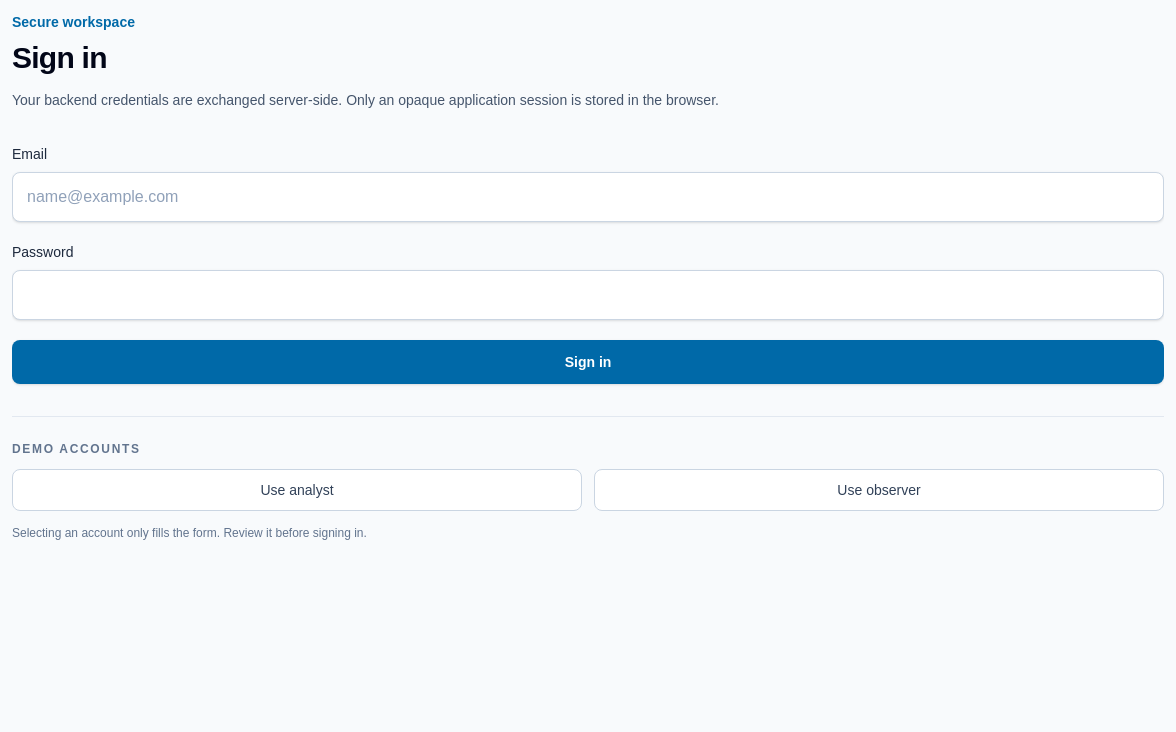
SignInForm › shows an understandable invalid-credentials error
The width and height of the screenshot is (1176, 732).
Type "wrong@example.test" into the field labelled "Email" at (588, 197), box left=12, top=172, right=1164, bottom=222
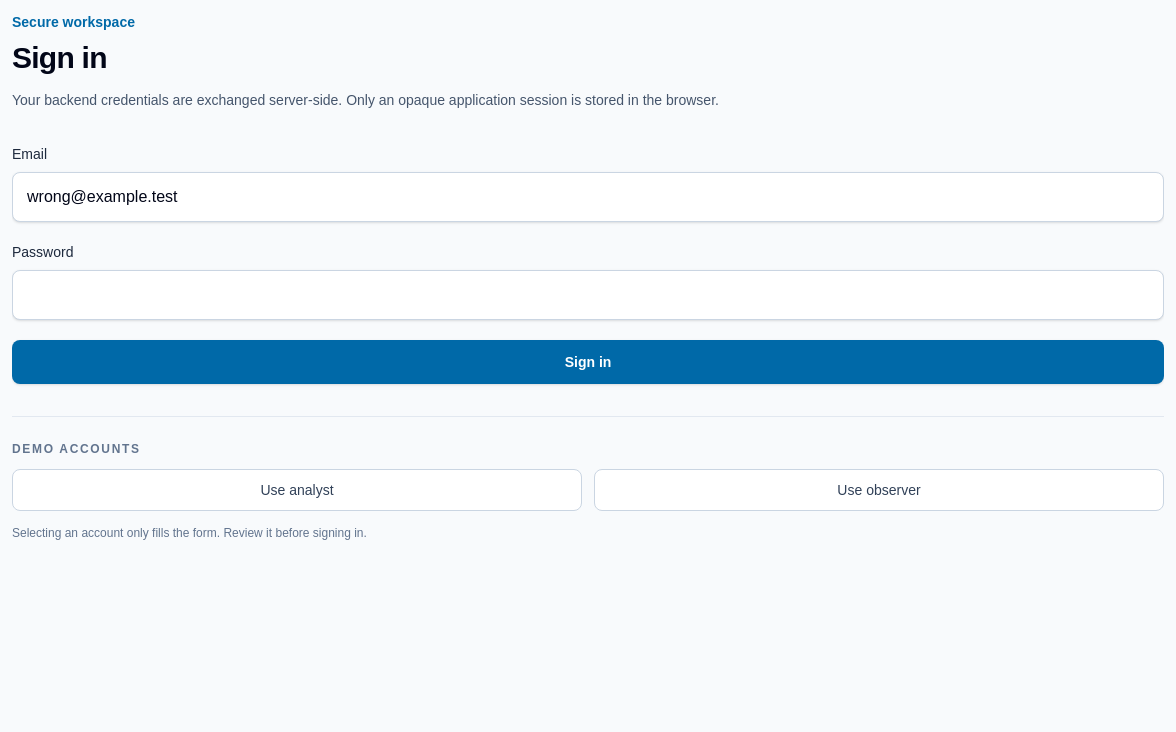
Type "wrong-password" into the password field labelled "Password" at (588, 295), box left=12, top=270, right=1164, bottom=320
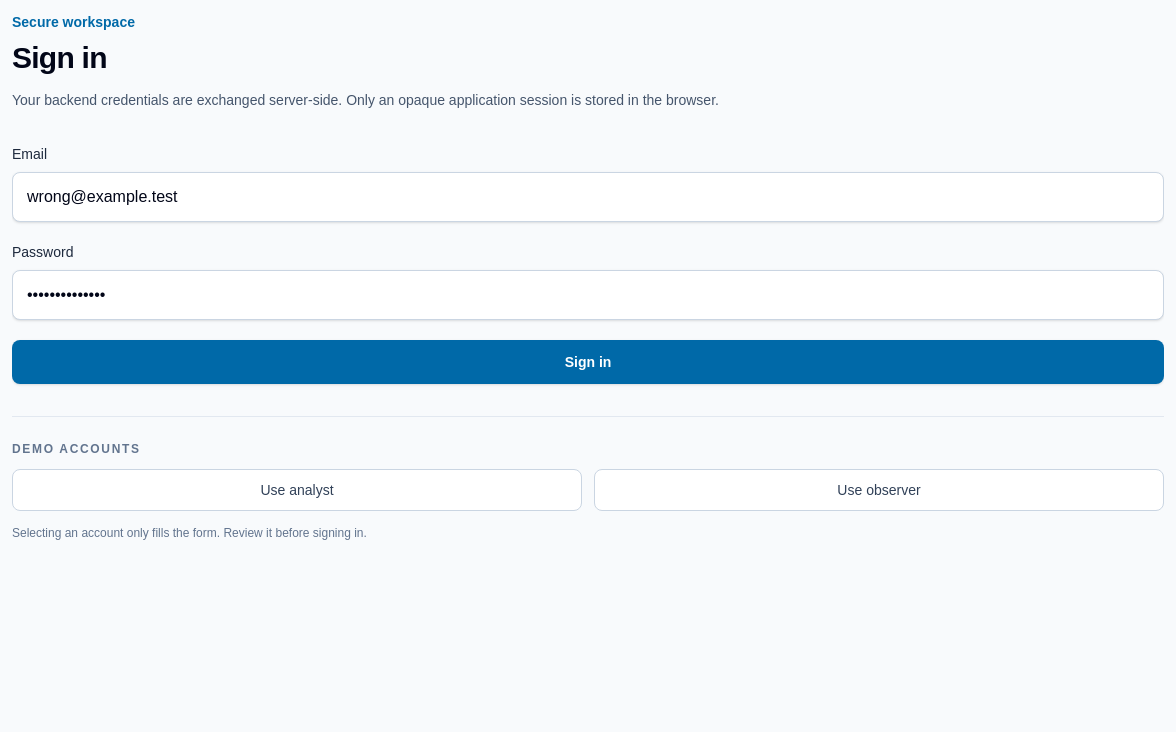
Click the button "Sign in" at (588, 362), box left=12, top=340, right=1164, bottom=384
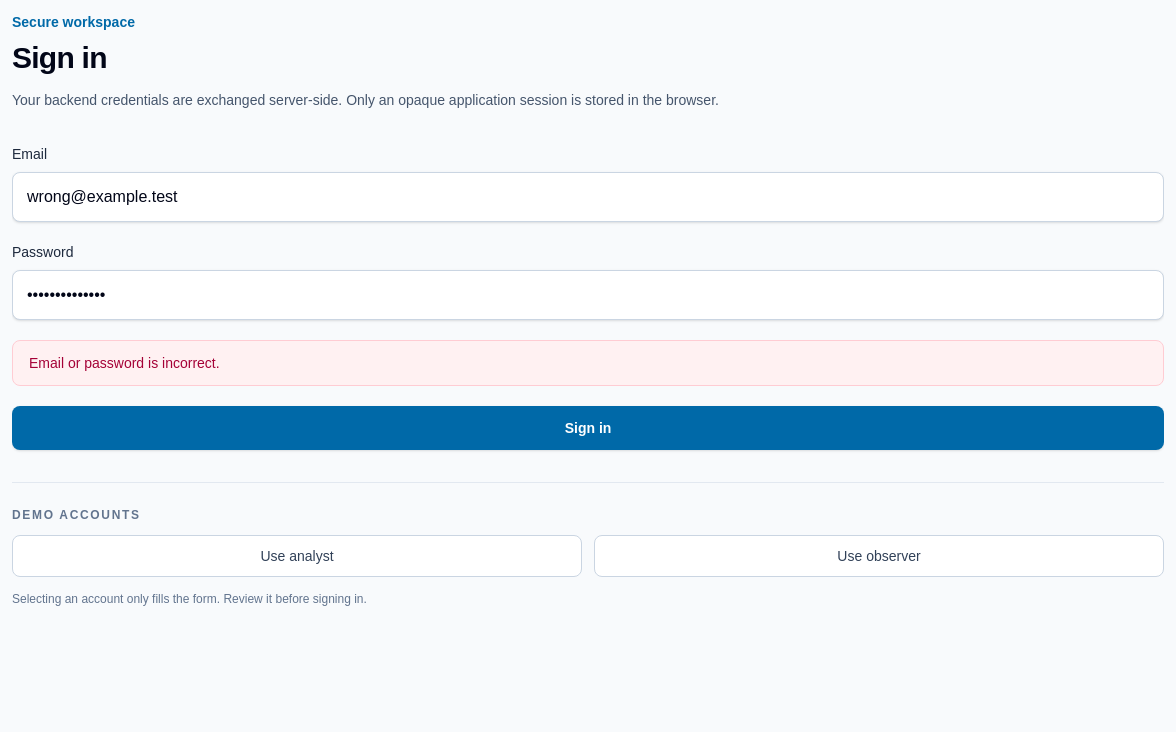
expect the message reads "Email or password is incorrect.": met, box left=29, top=355, right=220, bottom=371
